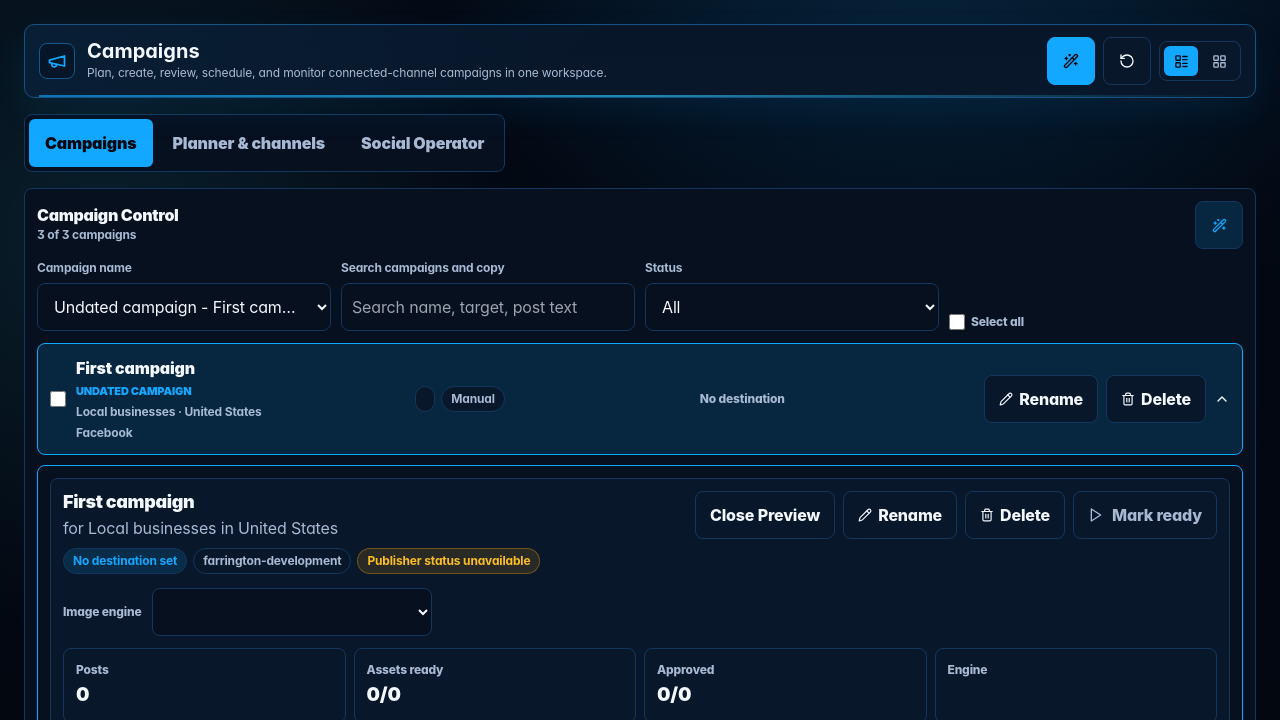
Scenario: Campaigns downward drawers › keeps restored selection attached to its campaign and hides it when filtered out
In the field with placeholder "Search name, target, post text": (488, 307) [341,283,635,331], type "Third campaign"
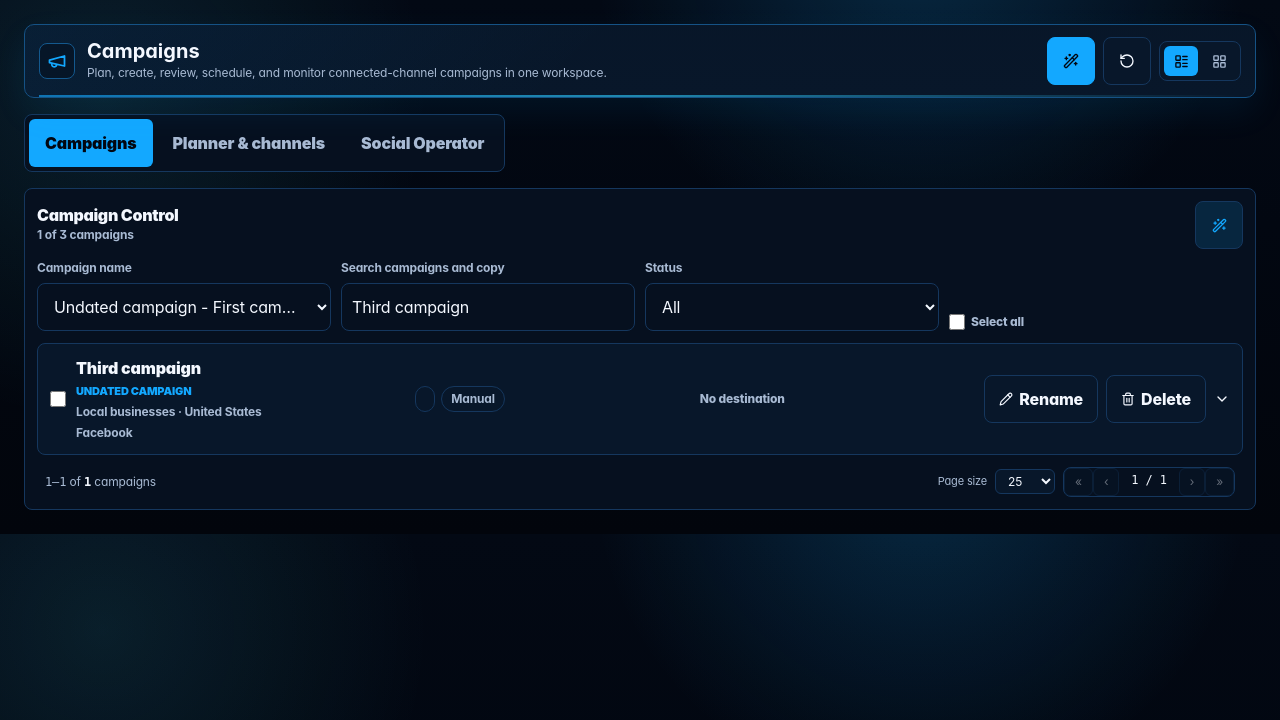
Click the button "Third campaign": (139, 368) [37,343,1243,454]
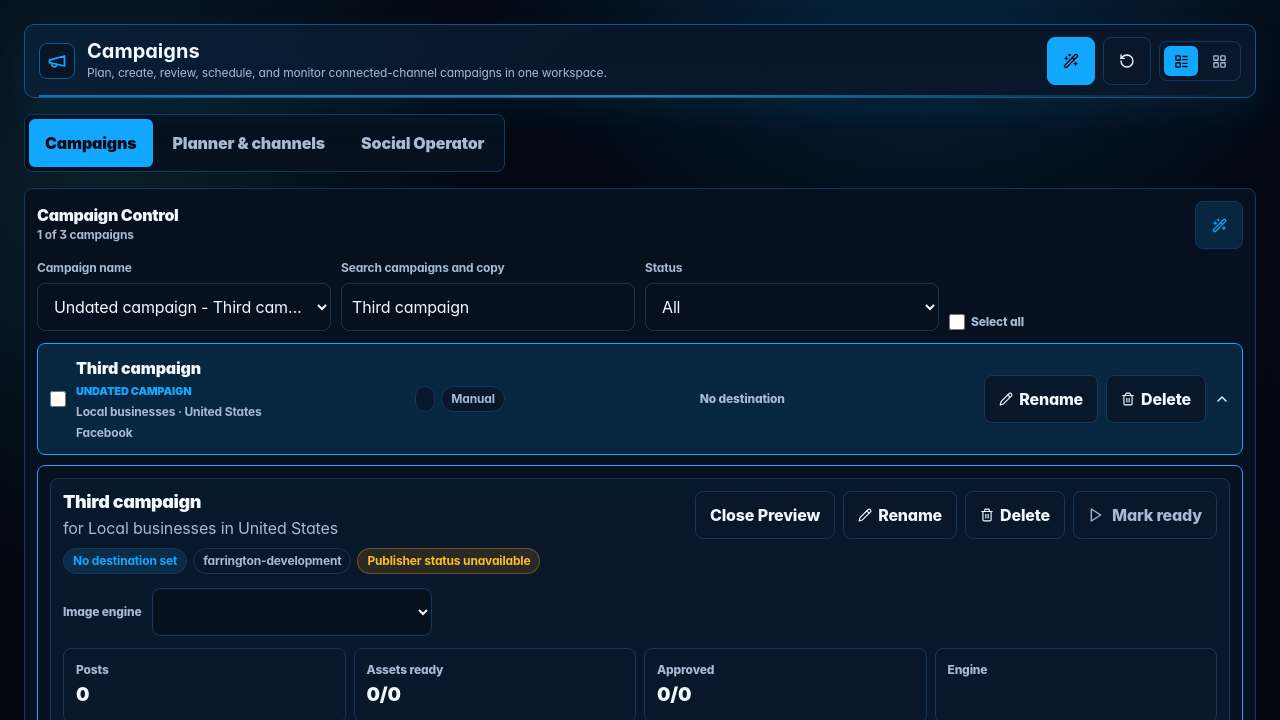
Check: the button "Third campaign" is expanded, box [37,343,1243,454]
